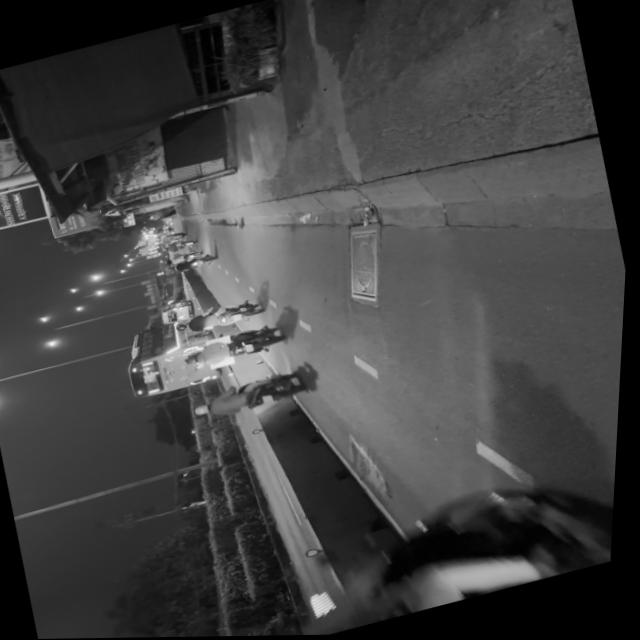helmet: (233, 617, 325, 637)
licenseplate: (205, 439, 622, 637)
